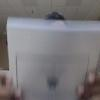notebook: (6, 15, 99, 99)
